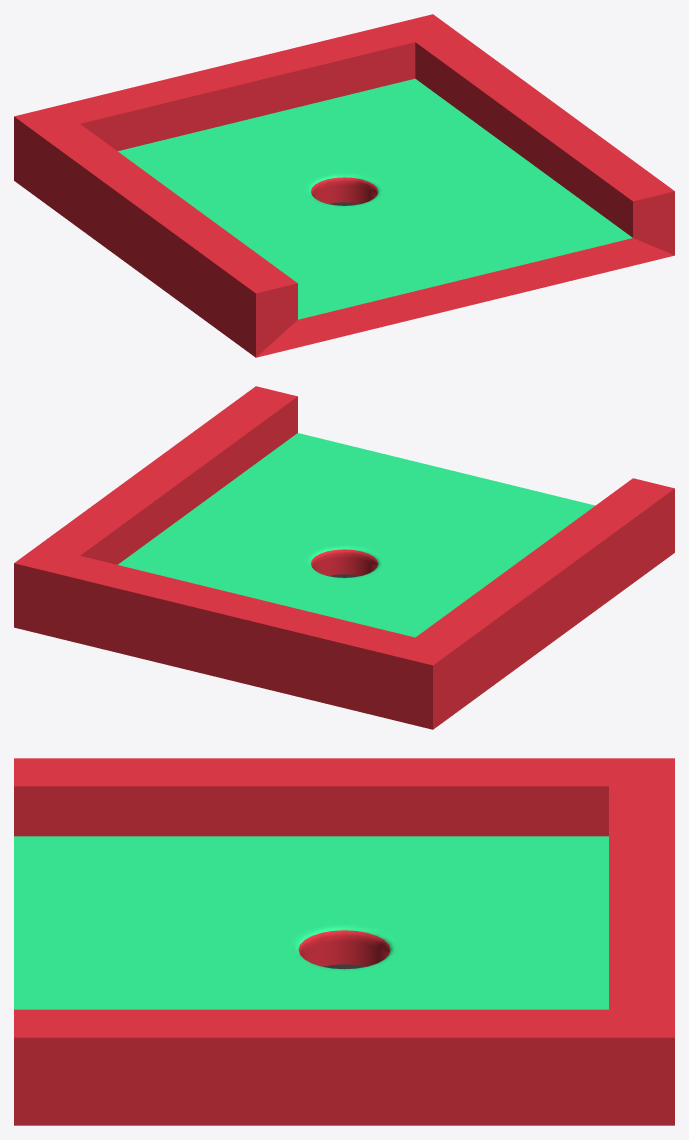
Rendered from holeSquare.fbx.
3 renders of one model, top to bottom at view 1: azimuth 30°, elevation 25°; view 2: azimuth 150°, elevation 25°; view 3: azimuth 270°, elevation 25°, orthographic. The views are drawn at different scales.
Visible parts, largest first — view 1: holeSquare; view 2: holeSquare; view 3: holeSquare.
Boxes of the visible parts, left/top/right/bottom form: holeSquare: left=14, top=14, right=674, bottom=357; holeSquare: left=14, top=386, right=674, bottom=729; holeSquare: left=14, top=758, right=674, bottom=1125.
Size of the model in its own units: 0.9999 by 0.9999 by 0.1467.
